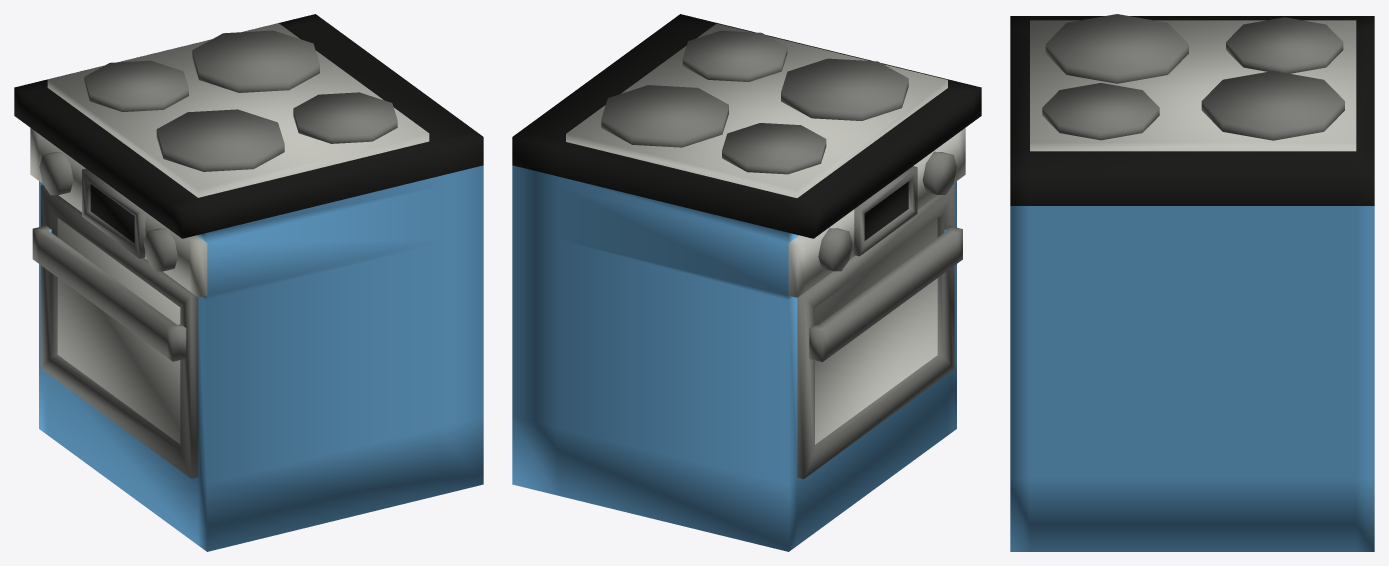
The model's file is Stove.fbx.
The picture shows the model from 3 angles, left to right: view 1: azimuth 30°, elevation 25°; view 2: azimuth 150°, elevation 25°; view 3: azimuth 270°, elevation 25°; orthographic projection. The views are drawn at different scales.
Visible parts, largest first — view 1: Cylinder.1262; view 2: Cylinder.1262; view 3: Cylinder.1262.
Boxes of the visible parts, x1,y1,x2,y2 form: Cylinder.1262: [14, 14, 483, 551]; Cylinder.1262: [512, 14, 981, 551]; Cylinder.1262: [1010, 14, 1374, 551].
Size of the model in its own units: 109 by 126 by 105.
Materials: 1 (1 with a texture image).
